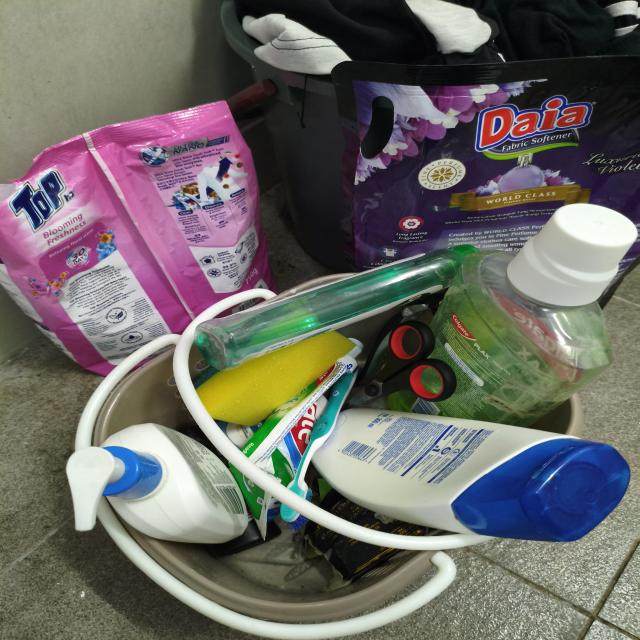scissor: (348, 321, 456, 407)
